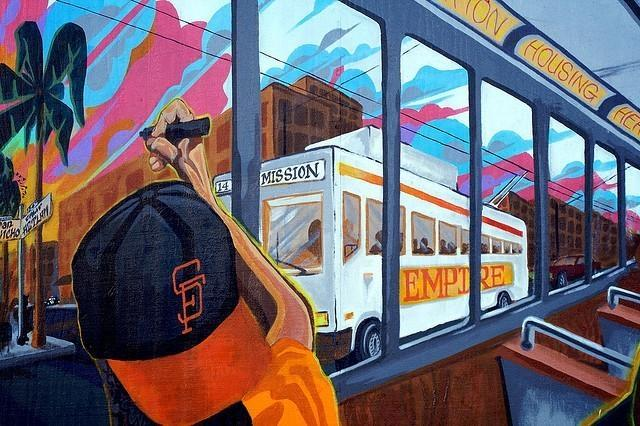bus: (215, 125, 530, 370)
car: (550, 254, 602, 290)
